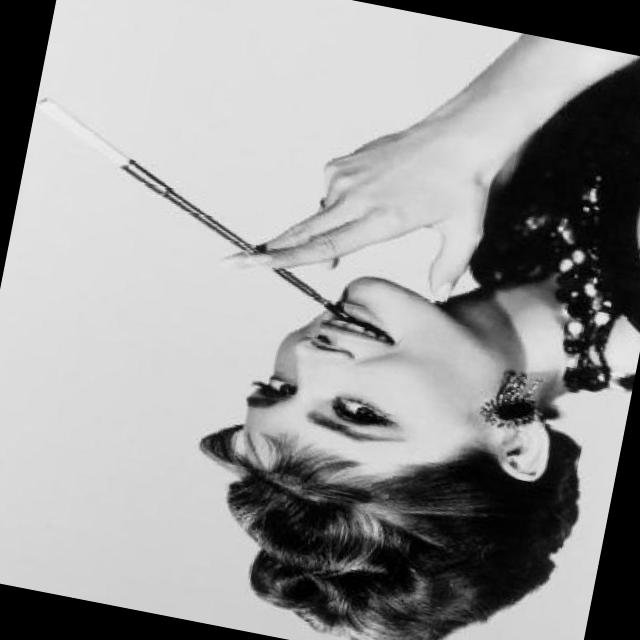cigarette: (28, 95, 144, 172)
